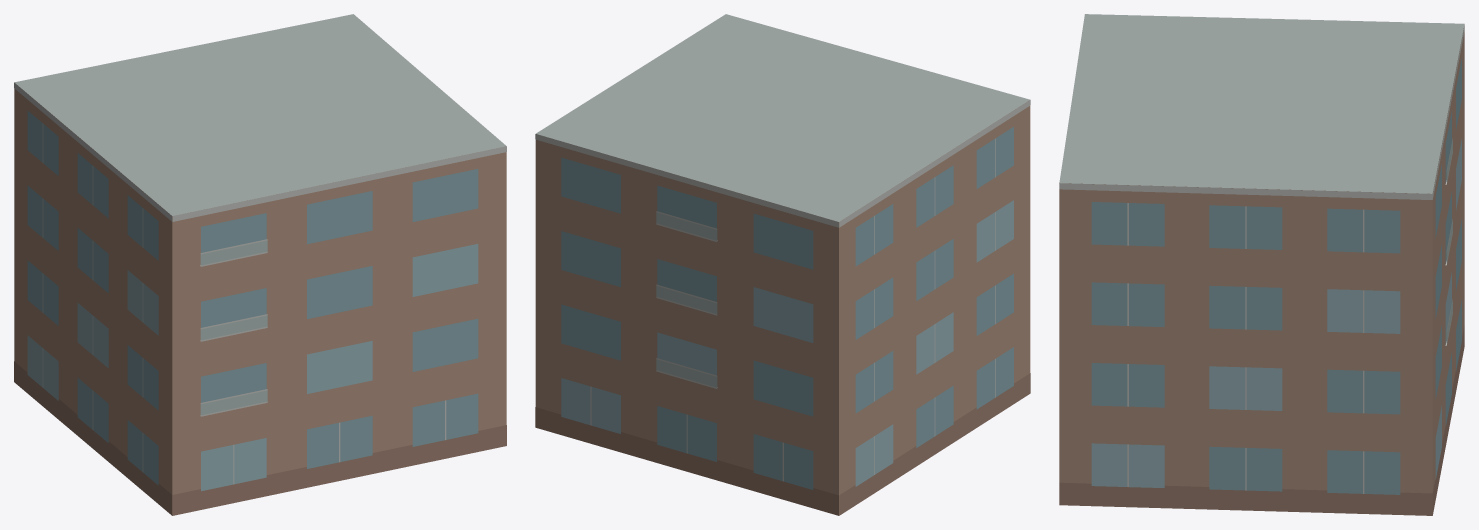
File: survey-upis-32753456.glb
The picture shows the model from 3 angles, left to right: view 1: azimuth 30°, elevation 25°; view 2: azimuth 150°, elevation 25°; view 3: azimuth 270°, elevation 25°; orthographic projection. The views are drawn at different scales.
Parts seen in each view (by area): view 1: survey-upis-32753456.tmp; view 2: survey-upis-32753456.tmp; view 3: survey-upis-32753456.tmp.
Boxes of the visible parts, x1,y1,x2,y2 form: survey-upis-32753456.tmp: (14, 14, 506, 515); survey-upis-32753456.tmp: (535, 14, 1030, 515); survey-upis-32753456.tmp: (1059, 14, 1464, 515).
Size of the model in its own units: 14.98 by 12.5 by 14.27.
